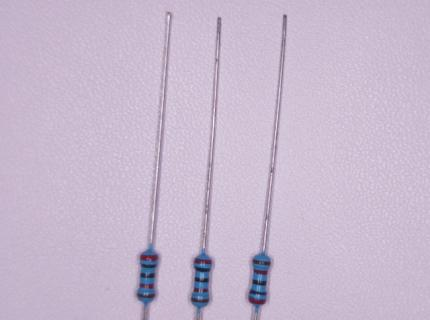Black band: (249, 289, 267, 295), (194, 267, 211, 272), (141, 272, 155, 278), (253, 279, 267, 285), (141, 263, 157, 268), (195, 277, 209, 282)
Brown band: (252, 258, 271, 266), (191, 297, 209, 303), (137, 293, 155, 298)
Red band: (249, 296, 266, 305), (140, 253, 158, 261), (194, 258, 213, 264), (254, 269, 268, 275), (193, 287, 209, 292), (140, 283, 154, 288)
